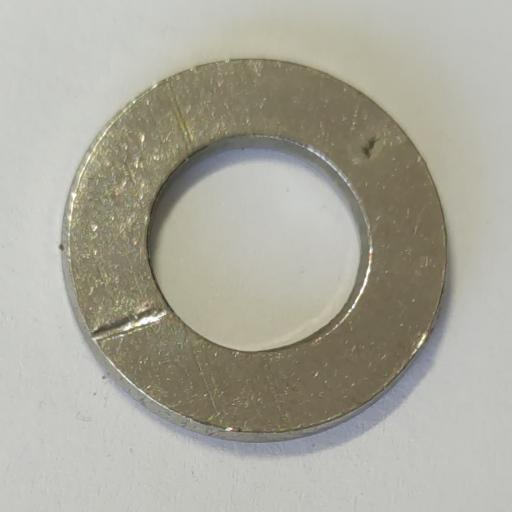scratch: (91, 309, 167, 340)
